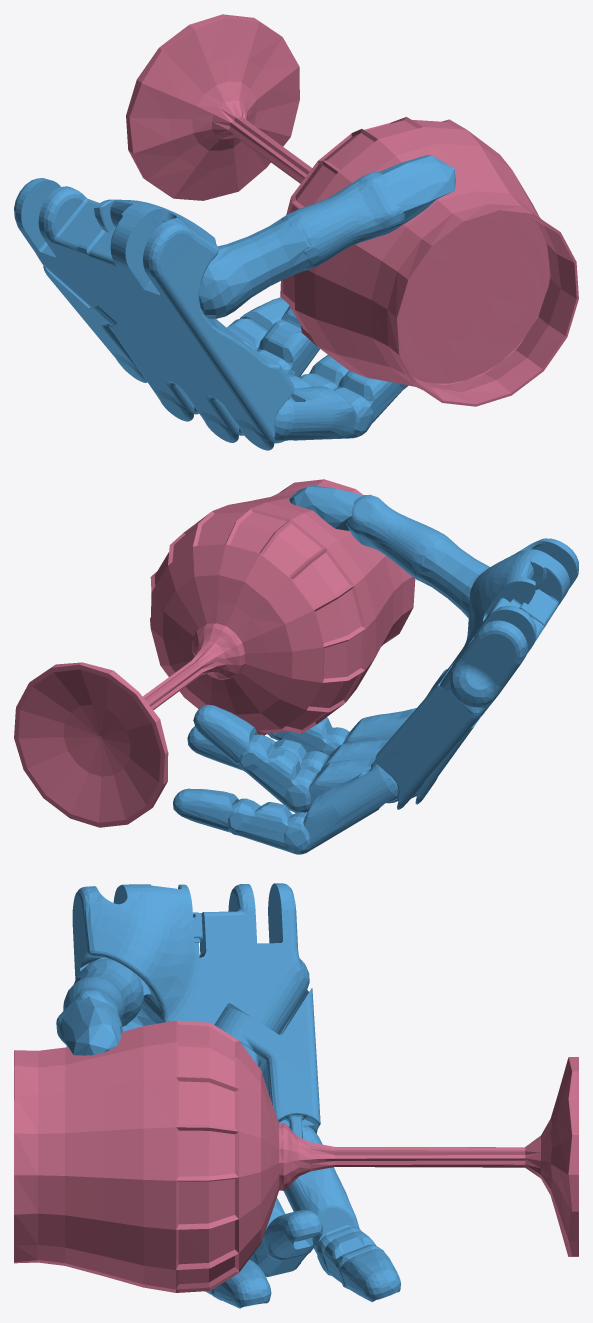
The picture shows the model from 3 angles, top to bottom: view 1: azimuth 30°, elevation 25°; view 2: azimuth 150°, elevation 25°; view 3: azimuth 270°, elevation 25°; orthographic projection. The views are drawn at different scales.
Visible parts, largest first — view 1: 9; view 2: 9; view 3: 9.
Part boxes in pixels (bbox=[...]): 9: bbox=[14, 14, 578, 450]; 9: bbox=[14, 479, 578, 854]; 9: bbox=[14, 883, 578, 1308].
Size of the model in its own units: 0.1941 by 0.1224 by 0.2031.
